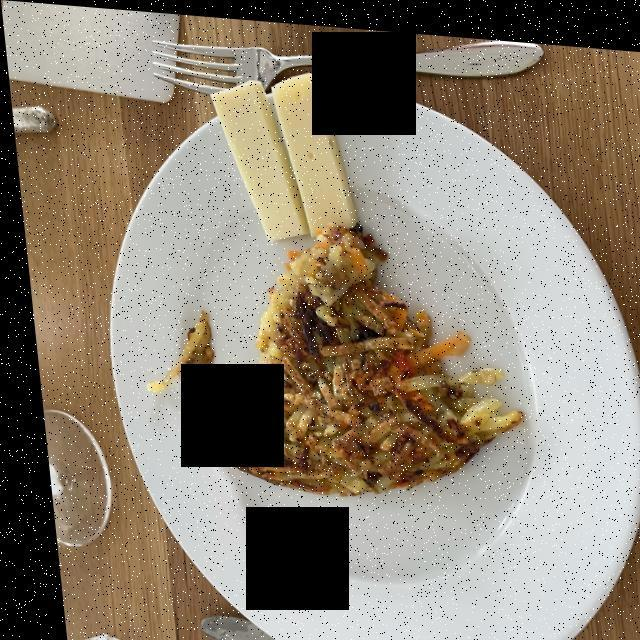cheese: (216, 70, 346, 235)
